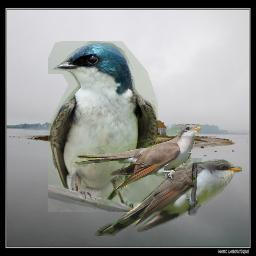Cuckoo: (92, 158, 242, 236), (73, 124, 201, 189)
Swallow: (48, 41, 158, 212)
